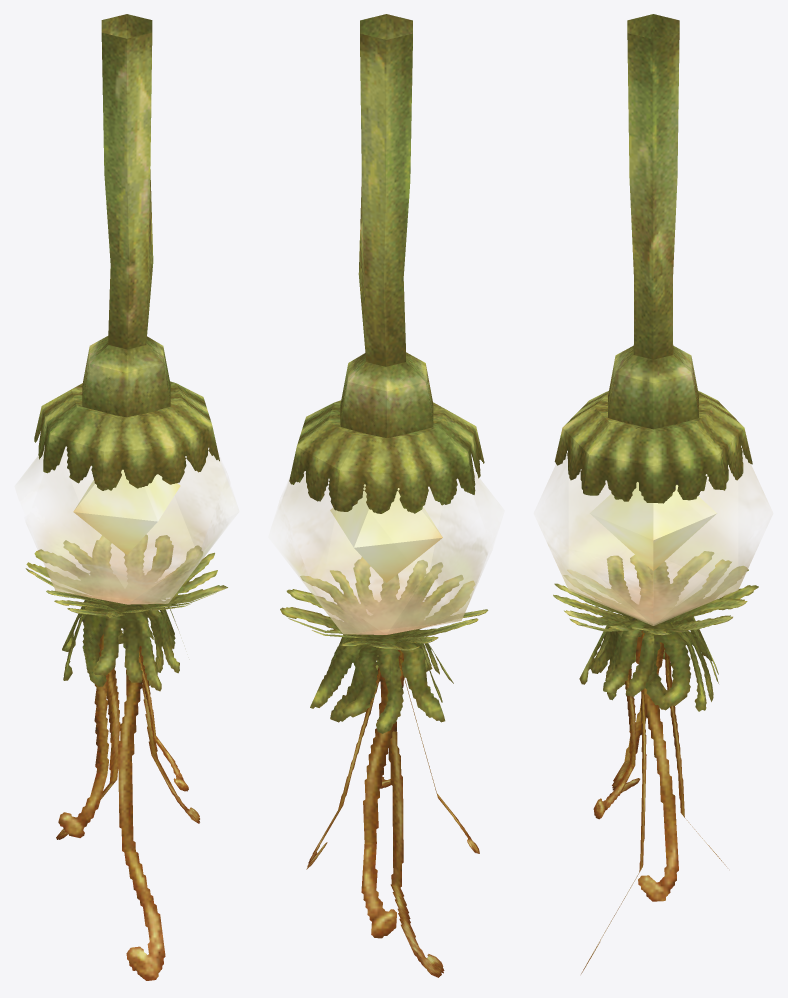
3 views of the same model, side by side, from view 1: azimuth 30°, elevation 25°; view 2: azimuth 150°, elevation 25°; view 3: azimuth 270°, elevation 25° (orthographic). The views are drawn at different scales.
Visible parts, largest first — view 1: lamp_y_01; view 2: lamp_y_01; view 3: lamp_y_01.
Boxes of the visible parts, x1,y1,x2,y2 form: lamp_y_01: (17,14,238,980); lamp_y_01: (275,14,499,977); lamp_y_01: (538,14,770,973).
Bounding box in the file's own units: 0.035 × 0.1535 × 0.035.
2 materials, 2 textured.
